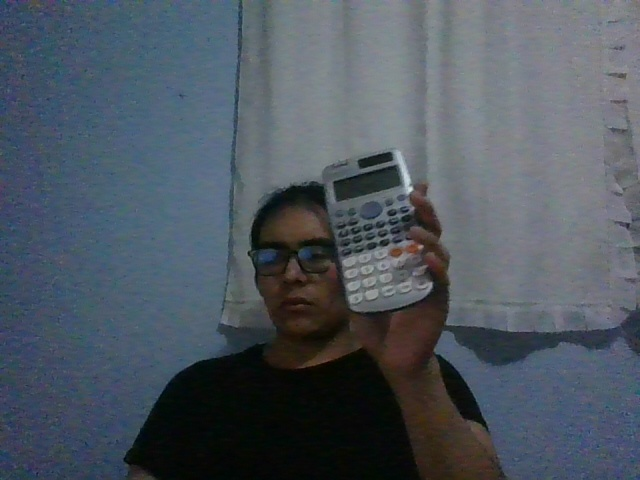calculadora: (322, 148, 435, 315)
